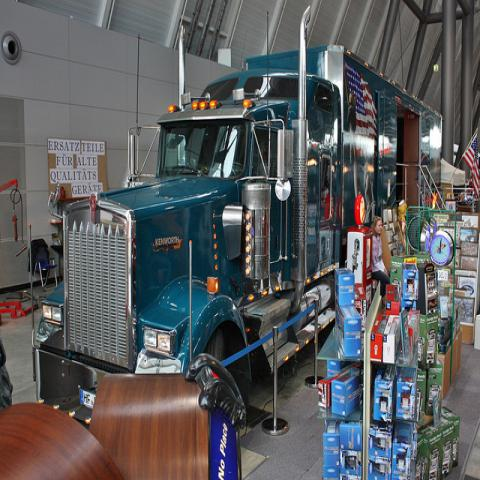truck: (33, 3, 444, 421)
